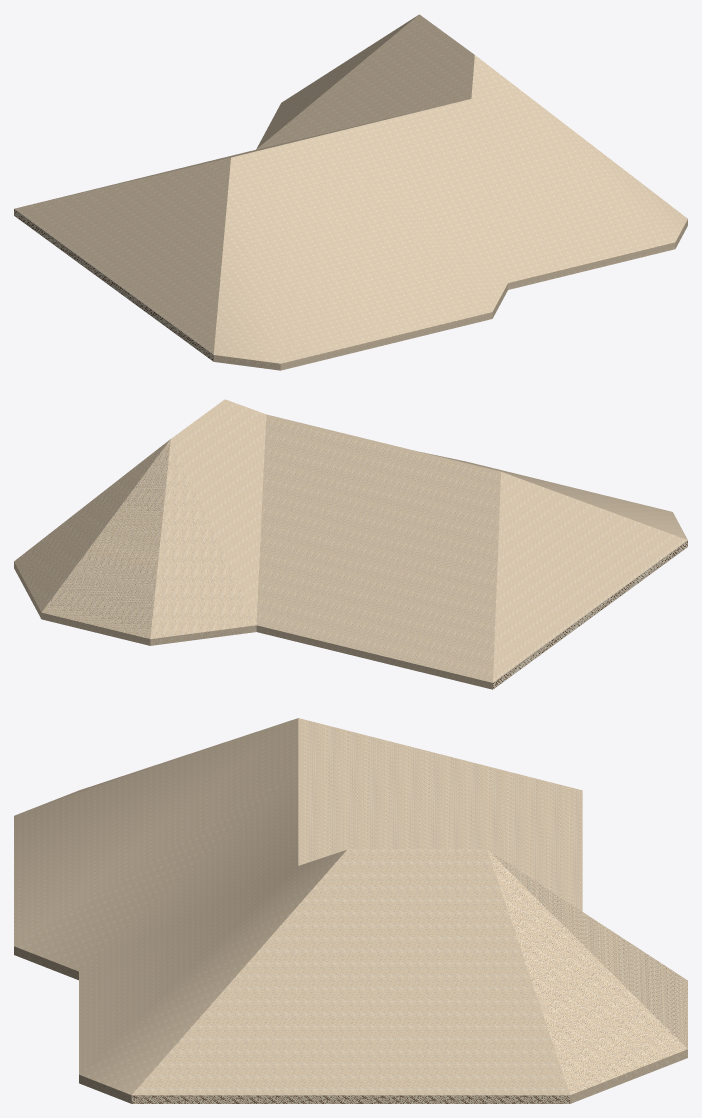
The model's file is House01_3rd_blender.obj.
The picture shows the model from 3 angles, top to bottom: view 1: azimuth 30°, elevation 25°; view 2: azimuth 150°, elevation 25°; view 3: azimuth 270°, elevation 25°; orthographic projection. The views are drawn at different scales.
Visible parts, largest first — view 1: 1_1; view 2: 1_1; view 3: 1_1.
Part boxes in pixels (<box>): 1_1: <box>14,14,687,370</box>; 1_1: <box>14,399,687,689</box>; 1_1: <box>14,718,687,1103</box>.
Size of the model in its own units: 15.12 by 4.07 by 14.13.
1 material, 1 textured.
